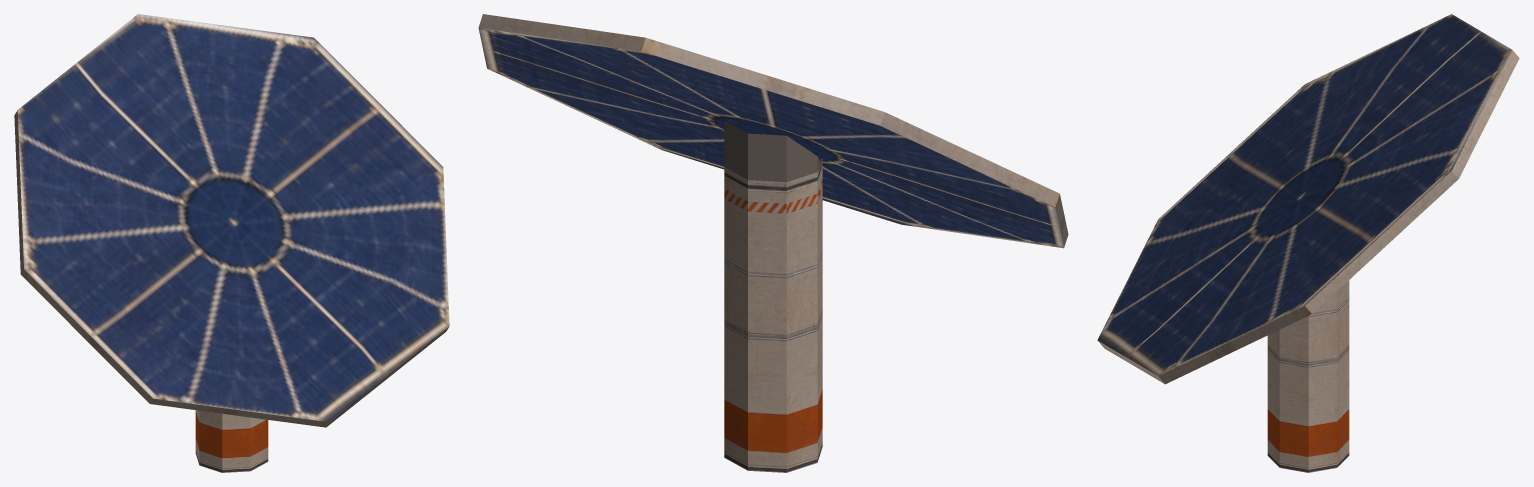
File: solar_01.dae
The picture shows the model from 3 angles, left to right: view 1: azimuth 30°, elevation 25°; view 2: azimuth 150°, elevation 25°; view 3: azimuth 270°, elevation 25°; orthographic projection. The views are drawn at different scales.
Visible parts, largest first — view 1: solar_01; view 2: solar_01; view 3: solar_01.
Boxes of the visible parts, bbox=[...] form: solar_01: bbox=[14, 14, 449, 472]; solar_01: bbox=[478, 14, 1068, 472]; solar_01: bbox=[1097, 14, 1519, 472].
Bounding box in the file's own units: 14.56 × 11.72 × 12.43.
